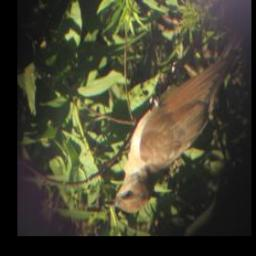Cuckoo: (103, 24, 247, 214)
